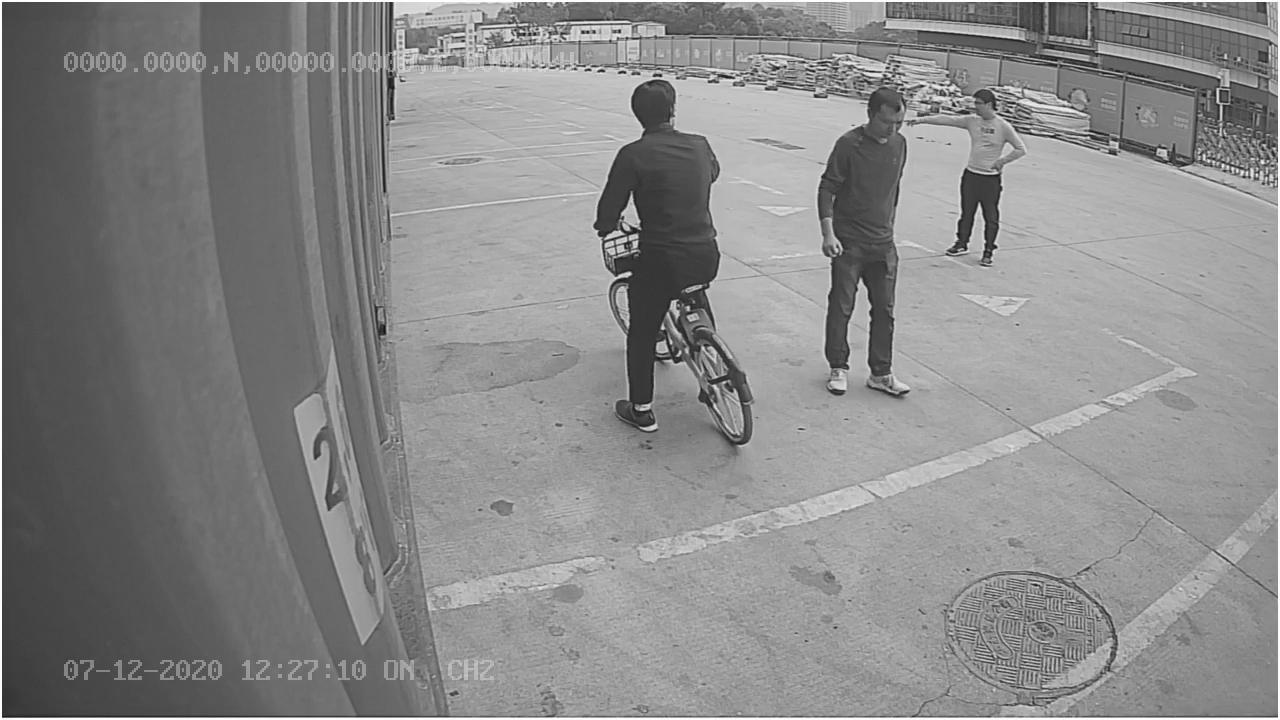person: (812, 84, 918, 399)
